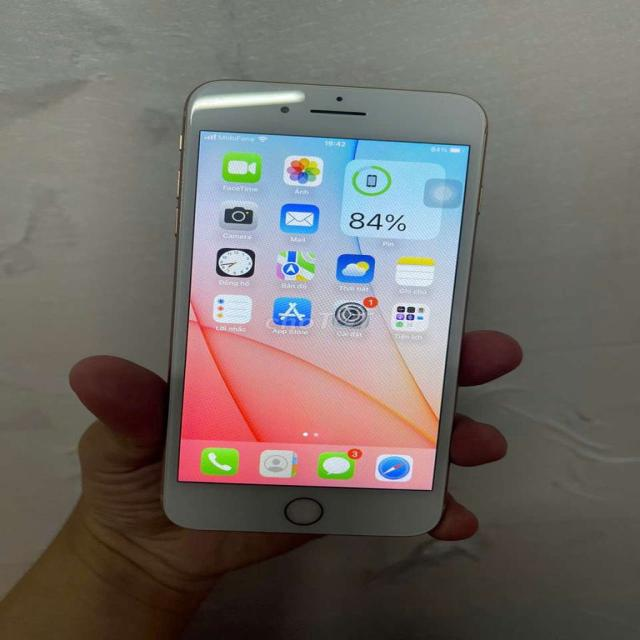gen_7_8: (155, 69, 496, 552)
